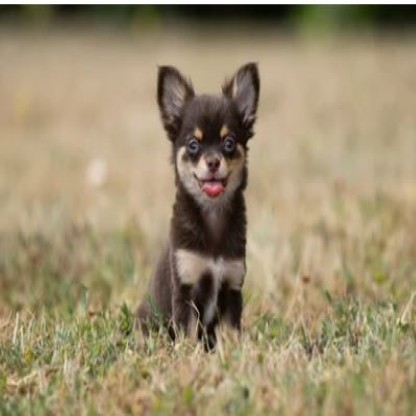chihuahua: (127, 60, 264, 342)
